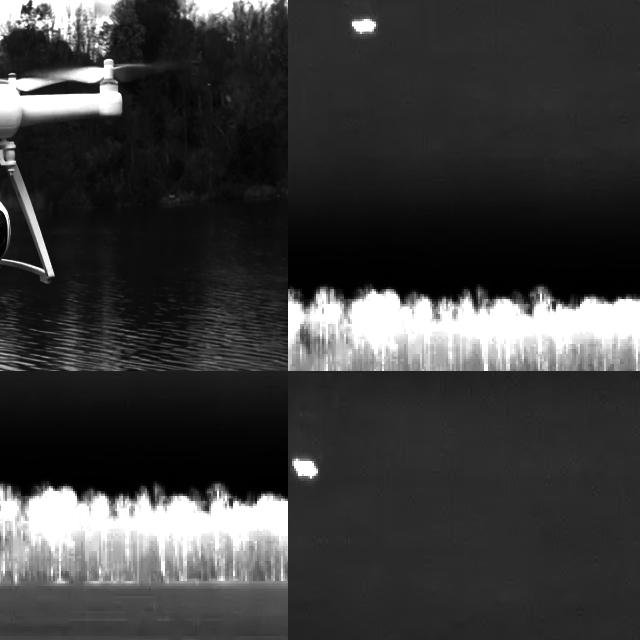1: (340, 13, 384, 45), (288, 454, 325, 487)
drone: (0, 50, 152, 308)
